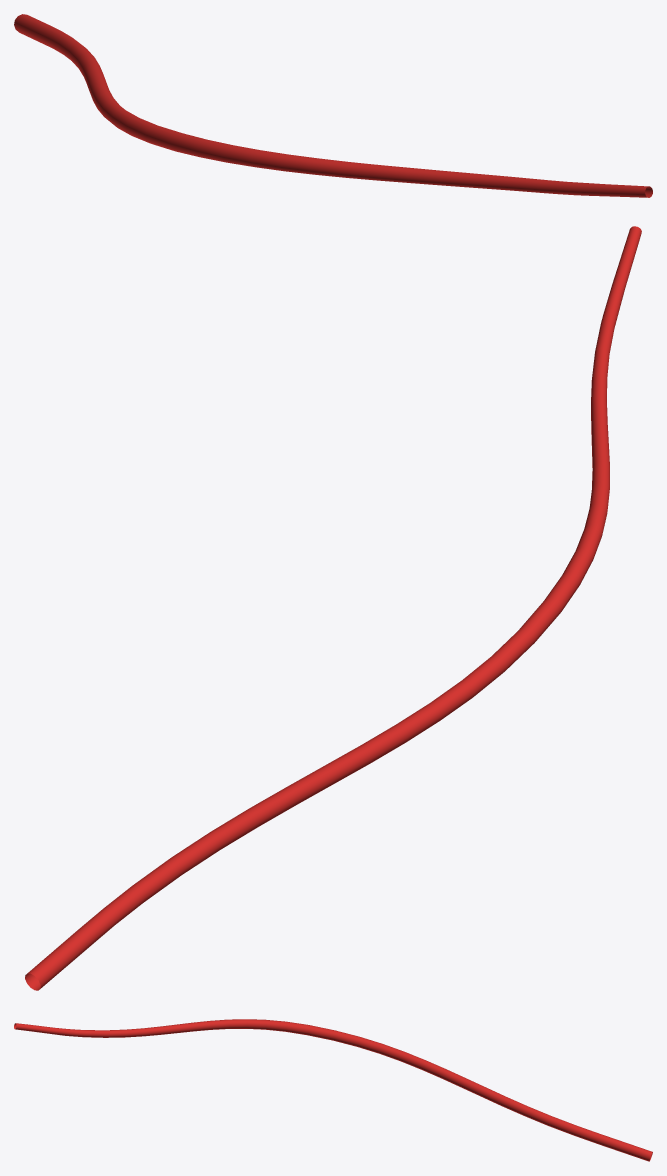
The model's file is circulatorio-superior-ophthalmic-vein-r.glb.
3 renders of one model, top to bottom at view 1: azimuth 30°, elevation 25°; view 2: azimuth 150°, elevation 25°; view 3: azimuth 270°, elevation 25°, orthographic. The views are drawn at different scales.
Parts seen in each view (by area): view 1: Superior ophthalmic vein.r; view 2: Superior ophthalmic vein.r; view 3: Superior ophthalmic vein.r.
Boxes of the visible parts, x1,y1,x2,y2 form: Superior ophthalmic vein.r: [14, 14, 652, 197]; Superior ophthalmic vein.r: [25, 226, 641, 990]; Superior ophthalmic vein.r: [14, 1019, 652, 1161].
Size of the model in its own units: 0.0124 by 0.0154 by 0.0611.
